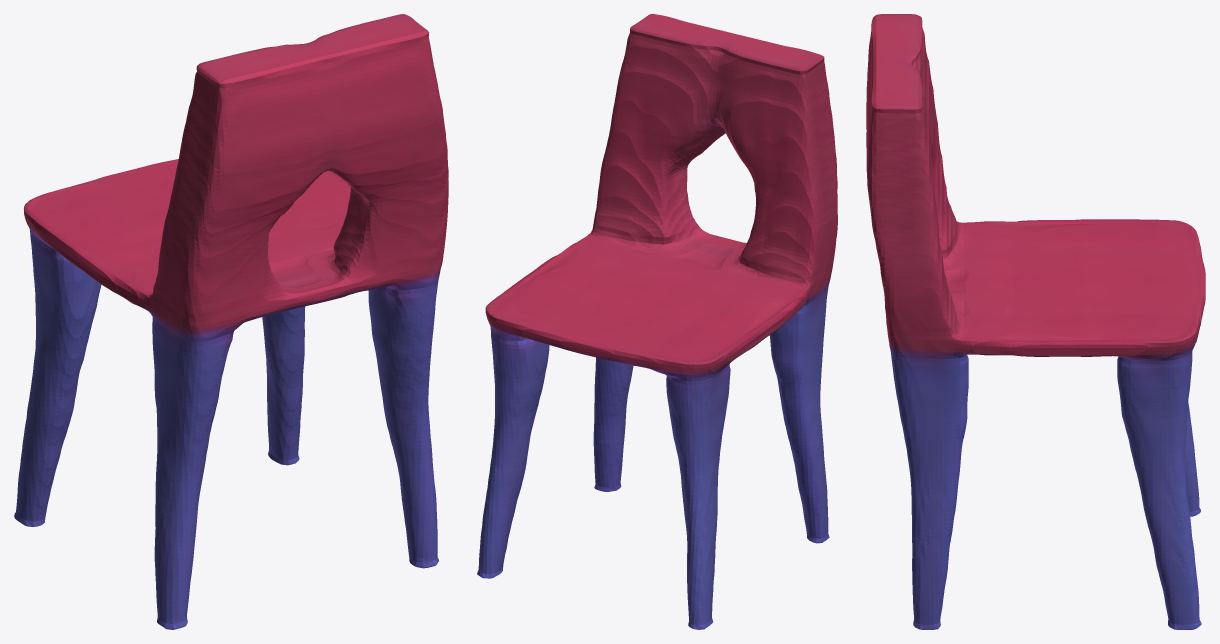
The model's file is test_chair.glb.
The picture shows the model from 3 angles, left to right: view 1: azimuth 30°, elevation 25°; view 2: azimuth 150°, elevation 25°; view 3: azimuth 270°, elevation 25°; orthographic projection. The views are drawn at different scales.
Visible parts, largest first — view 1: tmppx1lt5_p.ply; view 2: tmppx1lt5_p.ply; view 3: tmppx1lt5_p.ply.
Boxes of the visible parts, x1,y1,x2,y2 form: tmppx1lt5_p.ply: [14, 14, 448, 629]; tmppx1lt5_p.ply: [477, 14, 837, 629]; tmppx1lt5_p.ply: [866, 14, 1205, 629].
Bounding box in the file's own units: 1.05 × 1.98 × 1.2.
